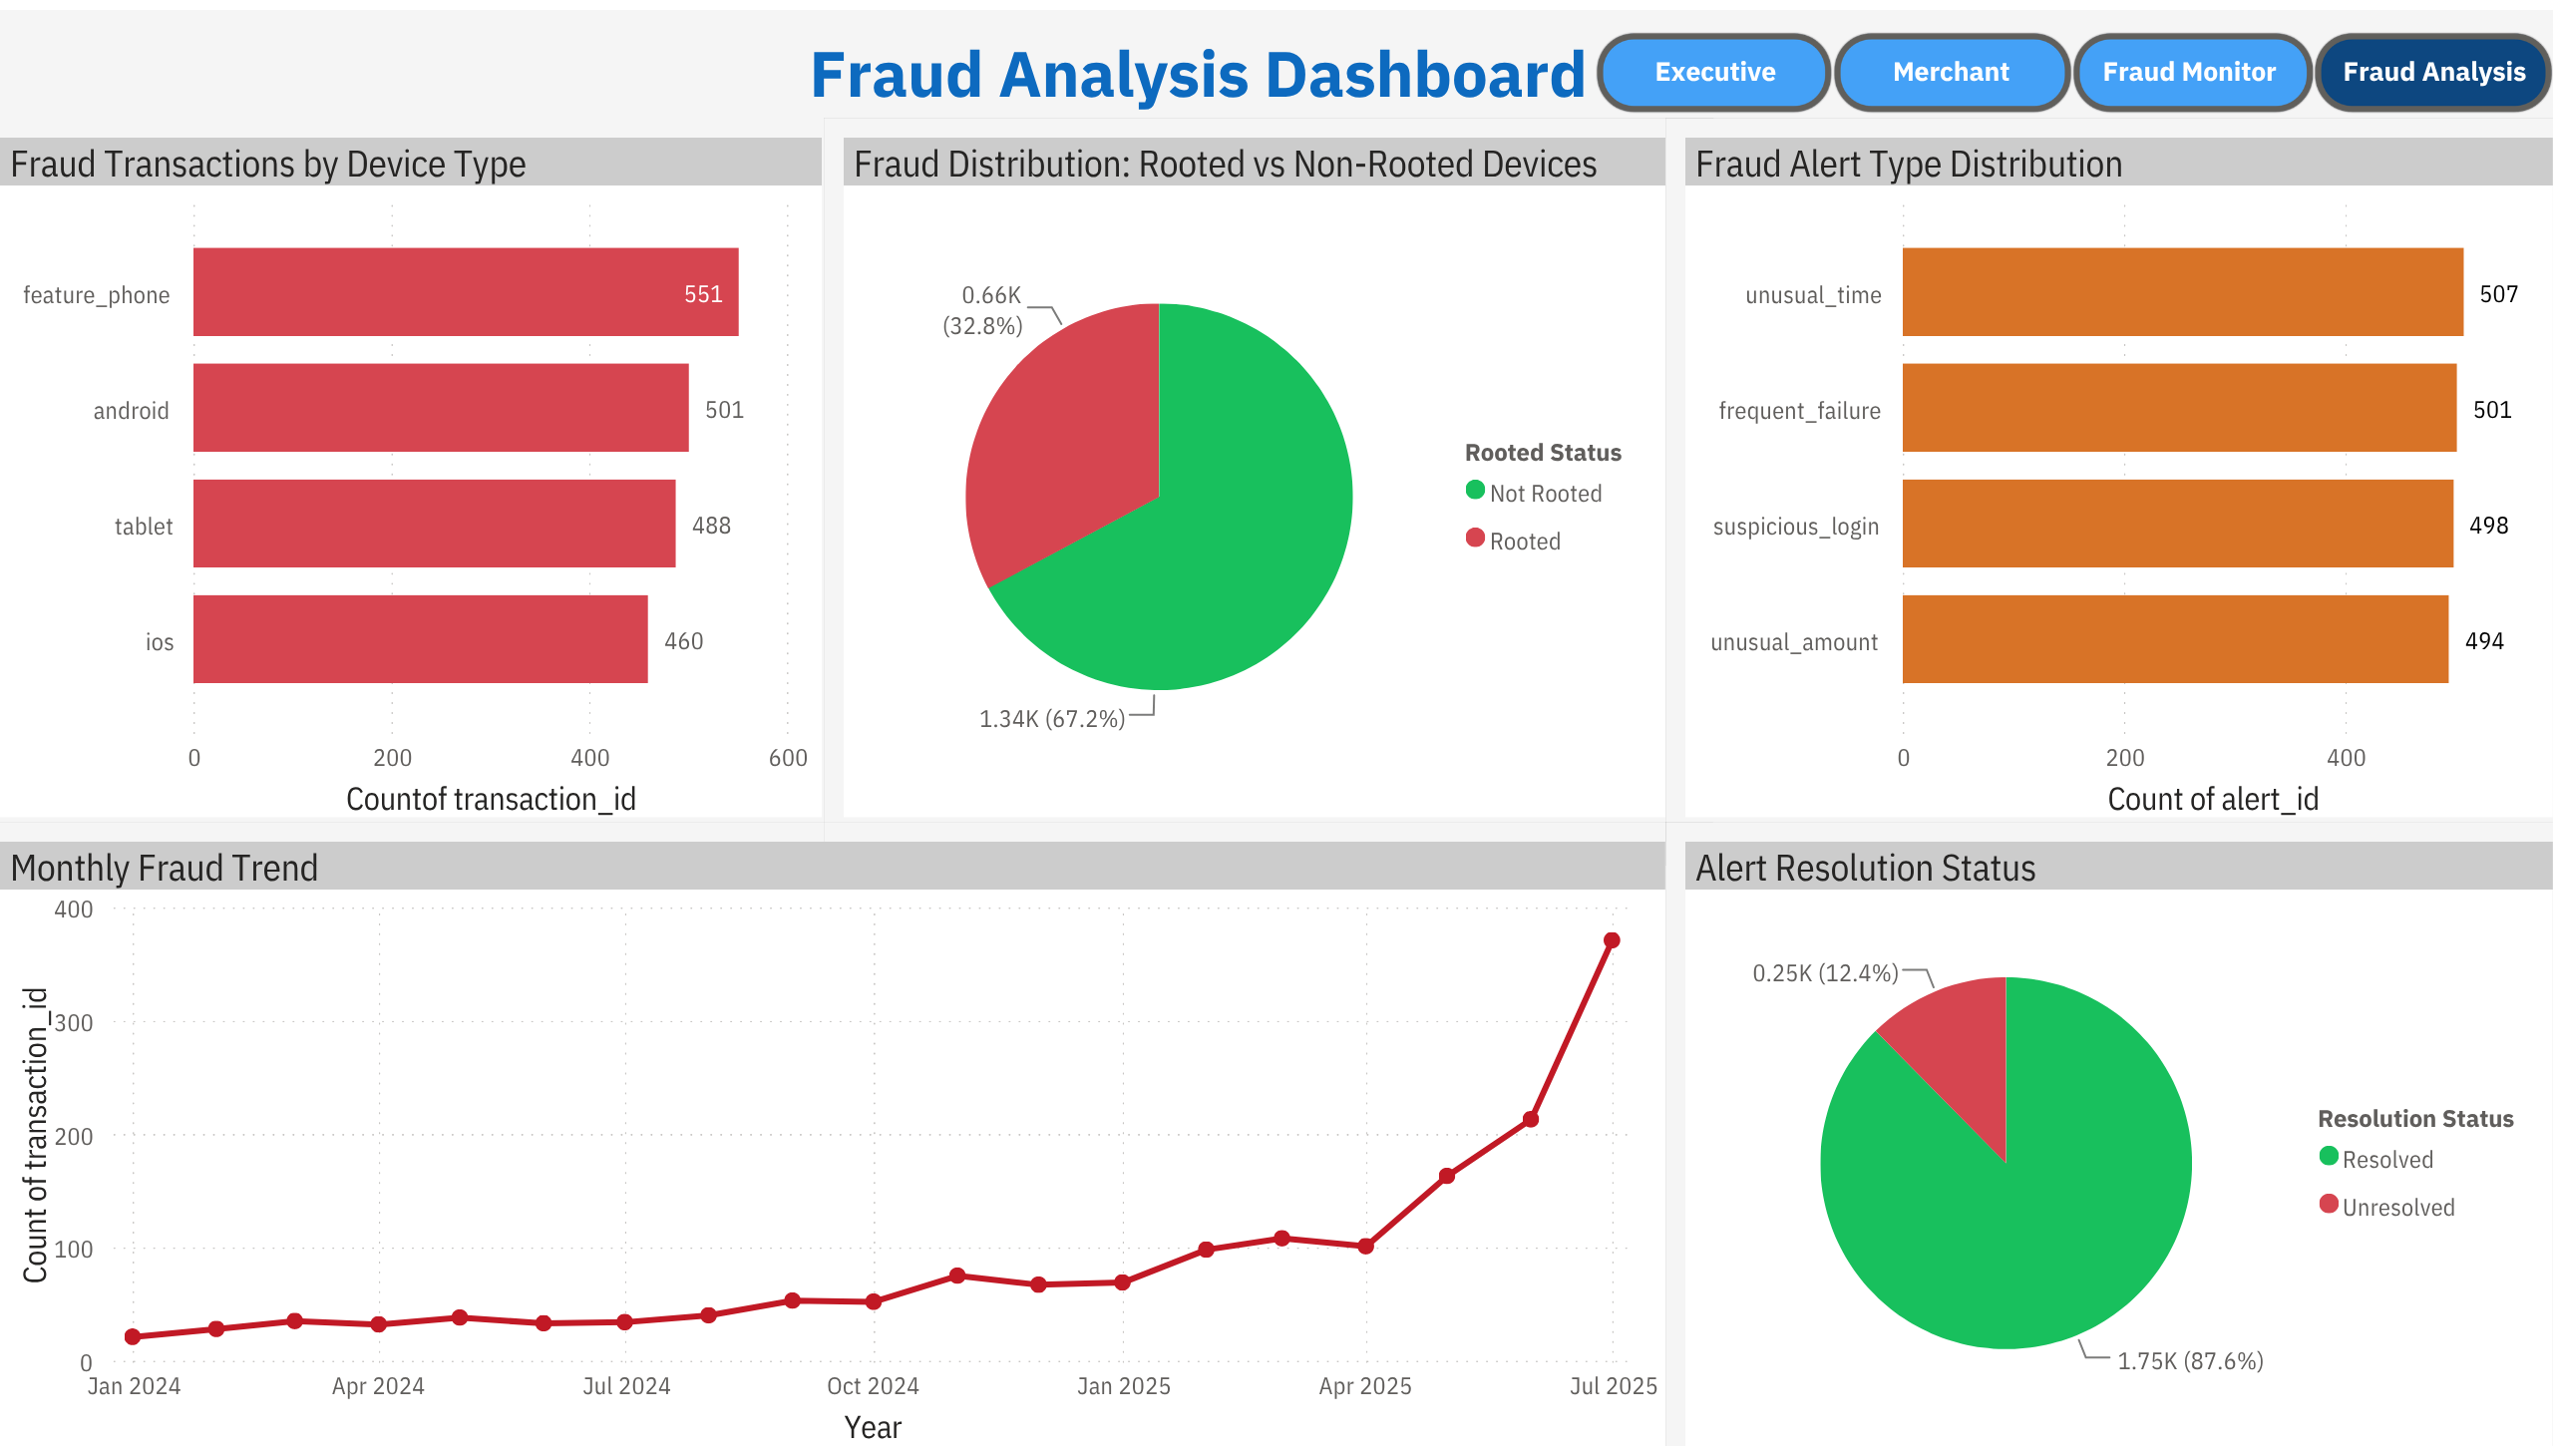

This screenshot's page, from the dashboard's own definition file:
{"tool":"powerbi","page":{"name":"Fraud Analysis Dashboard","canvas":[1280,720],"ordinal":3},"visuals":[{"type":"clusteredBarChart","title":"Fraud Transactions by Device Type","fields":{"Category":["device_info.device_type"],"Y":["CountNonNull(upi_transaction_history.transaction_id)"]},"box":[0,63.6,412.4,341.4],"z":0},{"type":"pieChart","title":"Fraud Distribution: Rooted vs Non-Rooted Devices","fields":{"Y":["CountNonNull(upi_transaction_history.transaction_id)"],"Category":["device_info.rooted_status"]},"box":[422.7,63.6,412.4,341.4],"z":1000},{"type":"lineChart","title":"Monthly Fraud Trend","fields":{"Y":["CountNonNull(upi_transaction_history.transaction_id)"],"Category":["upi_transaction_history.timestamp.Variation.Date Hierarchy.Year","upi_transaction_history.timestamp.Variation.Date Hierarchy.Month"]},"box":[0,416.5,835.3,303.7],"z":2000},{"type":"clusteredBarChart","title":"Fraud Alert Type Distribution","fields":{"Category":["fraud_alert_history.alert_type"],"Y":["CountNonNull(fraud_alert_history.alert_id)"]},"box":[845.5,63.6,434.5,341.4],"z":3000},{"type":"pieChart","title":"Alert Resolution Status","fields":{"Y":["CountNonNull(fraud_alert_history.alert_id)"],"Category":["fraud_alert_history.resolution_status"]},"box":[845,416.5,435,303.7],"z":4000},{"type":"textbox","box":[0,0,799.7,63.1],"z":5000},{"type":"actionButton","box":[918.5,11.1,120.1,40.9],"z":5001},{"type":"actionButton","box":[799.7,11.1,118.8,40.9],"z":5002},{"type":"actionButton","box":[1038.6,11.1,121.3,40.9],"z":5003},{"type":"actionButton","box":[1159.9,11.1,120.1,40.9],"z":5004}]}

Visuals, with their boxes in screenshot pixels (x1, y1, x2, y2), scaled from the page's 1280x720 canvas onto the 2553x1456 screenshot:
"Fraud Transactions by Device Type" clusteredBarChart: {"x1": 0, "y1": 129, "x2": 823, "y2": 819}
"Fraud Distribution: Rooted vs Non-Rooted Devices" pieChart: {"x1": 843, "y1": 129, "x2": 1665, "y2": 819}
"Monthly Fraud Trend" lineChart: {"x1": 0, "y1": 843, "x2": 1666, "y2": 1455}
"Fraud Alert Type Distribution" clusteredBarChart: {"x1": 1686, "y1": 129, "x2": 2552, "y2": 819}
"Alert Resolution Status" pieChart: {"x1": 1685, "y1": 843, "x2": 2552, "y2": 1455}
textbox: {"x1": 0, "y1": 0, "x2": 1595, "y2": 128}
actionButton: {"x1": 1832, "y1": 23, "x2": 2071, "y2": 105}
actionButton: {"x1": 1595, "y1": 23, "x2": 1832, "y2": 105}
actionButton: {"x1": 2071, "y1": 23, "x2": 2314, "y2": 105}
actionButton: {"x1": 2314, "y1": 23, "x2": 2552, "y2": 105}
